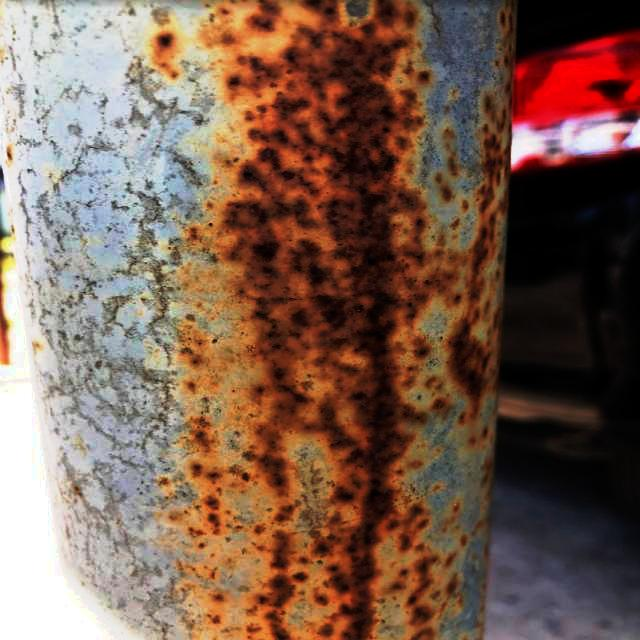Corrosion: (147, 0, 519, 640)
